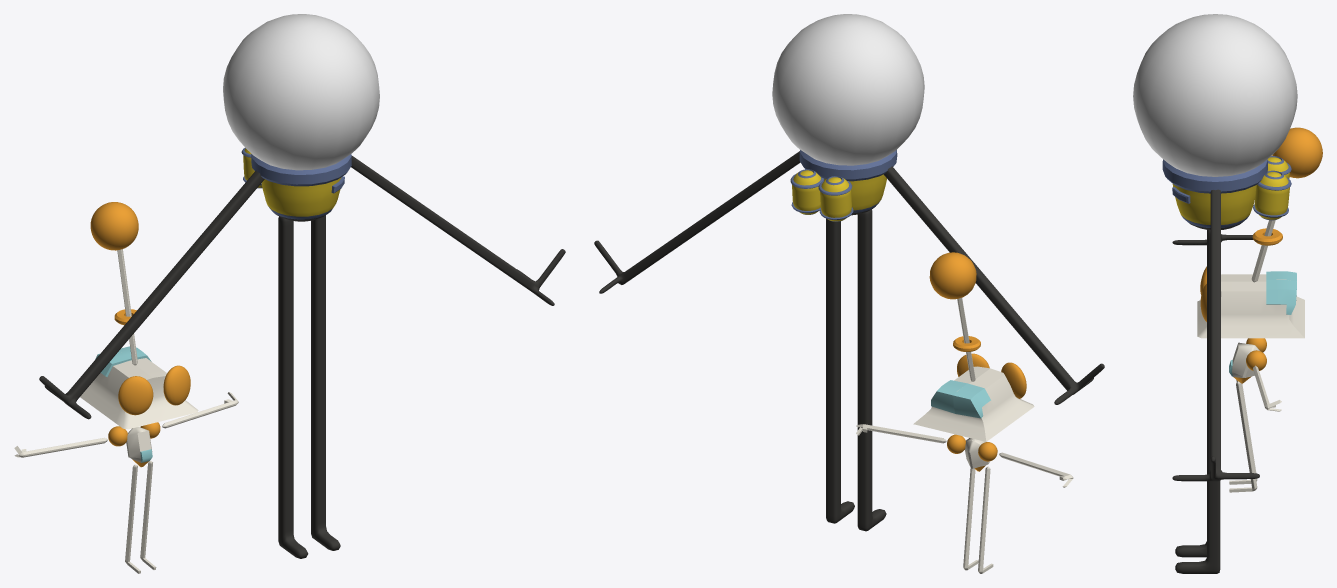
File: SkullandRobFBX.fbx
The picture shows the model from 3 angles, left to right: view 1: azimuth 30°, elevation 25°; view 2: azimuth 150°, elevation 25°; view 3: azimuth 270°, elevation 25°; orthographic projection. The views are drawn at different scales.
Visible parts, largest first — view 1: pSphere4, RobotSkeleIKNurbs:polySurface16, pCube6, pCube5, pasted__pSphere8, polySurface4, polySurface3, RobotSkeleIKNurbs:polySurface8; view 2: pSphere4, RobotSkeleIKNurbs:polySurface16, pCube6, pasted__pSphere8, pCube5, polySurface4, polySurface3, RobotSkeleIKNurbs:polySurface8, RobotSkeleIKNurbs:polySurface13, RobotSkeleIKNurbs:polySurface14; view 3: pSphere4, RobotSkeleIKNurbs:polySurface16, pasted__pSphere8, polySurface3, pCube5, RobotSkeleIKNurbs:polySurface8, RobotSkeleIKNurbs:polySurface14, pCube6, polySurface4, RobotSkeleIKNurbs:polySurface12, RobotSkeleIKNurbs:polySurface13.
Part boxes in pixels (x1,y1,x2,y2): pSphere4: (223, 14, 379, 170); RobotSkeleIKNurbs:polySurface16: (80, 202, 198, 429); pCube6: (278, 216, 308, 558); pCube5: (311, 215, 340, 550); pasted__pSphere8: (241, 147, 351, 221); polySurface4: (39, 170, 264, 419); polySurface3: (351, 155, 565, 305); RobotSkeleIKNurbs:polySurface8: (108, 422, 160, 467); pSphere4: (772, 14, 924, 165); RobotSkeleIKNurbs:polySurface16: (913, 252, 1034, 441); pCube6: (857, 209, 886, 531); pasted__pSphere8: (790, 150, 897, 221); pCube5: (826, 218, 854, 523); polySurface4: (884, 166, 1104, 404); polySurface3: (594, 151, 800, 293); RobotSkeleIKNurbs:polySurface8: (947, 434, 997, 471); RobotSkeleIKNurbs:polySurface13: (978, 466, 993, 573); RobotSkeleIKNurbs:polySurface14: (963, 468, 978, 570); pSphere4: (1133, 14, 1297, 176); RobotSkeleIKNurbs:polySurface16: (1197, 127, 1322, 338); pasted__pSphere8: (1162, 156, 1291, 229); polySurface3: (1172, 189, 1259, 481); pCube5: (1175, 230, 1220, 573); RobotSkeleIKNurbs:polySurface8: (1229, 338, 1266, 383); RobotSkeleIKNurbs:polySurface14: (1229, 381, 1257, 492); pCube6: (1175, 541, 1206, 557); polySurface4: (1172, 234, 1253, 245); RobotSkeleIKNurbs:polySurface12: (1253, 365, 1281, 411); RobotSkeleIKNurbs:polySurface13: (1229, 380, 1257, 484).
Bounding box in the file's own units: 24.74 × 23.41 × 7.42.
